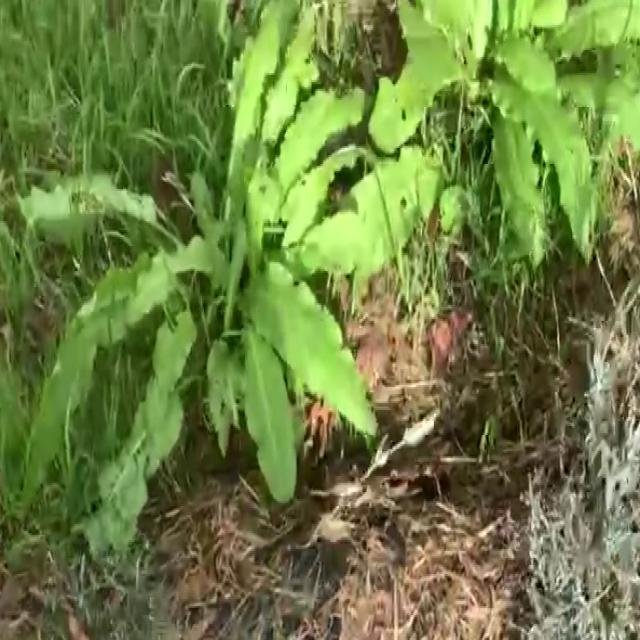organic waste: (29, 30, 407, 544), (377, 0, 640, 199)
